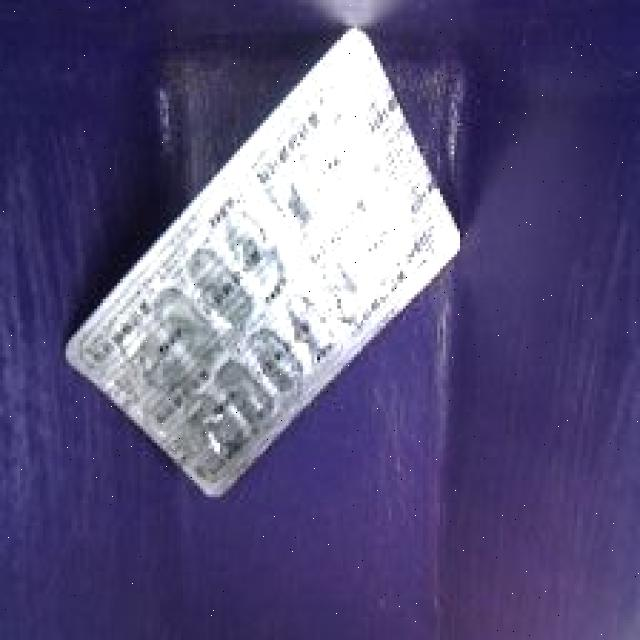med_plate: (49, 19, 472, 507)
